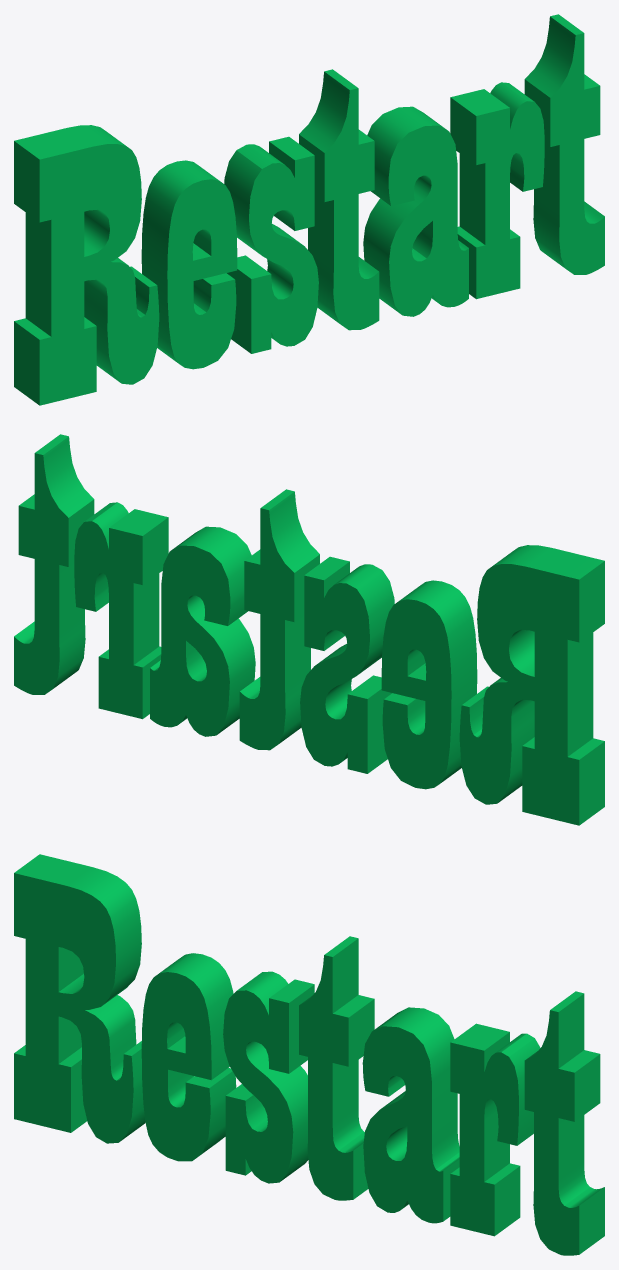
File: Restart.fbx
The picture shows the model from 3 angles, top to bottom: view 1: azimuth 30°, elevation 25°; view 2: azimuth 150°, elevation 25°; view 3: azimuth 330°, elevation 25°; orthographic projection.
Parts seen in each view (by area): view 1: typeMesh2; view 2: typeMesh2; view 3: typeMesh2.
Part boxes in pixels (x1,y1,x2,y2): typeMesh2: (14,14,604,405); typeMesh2: (14,434,604,825); typeMesh2: (14,854,604,1255).
Size of the model in its own units: 8.93 by 3.75 by 0.7035.
